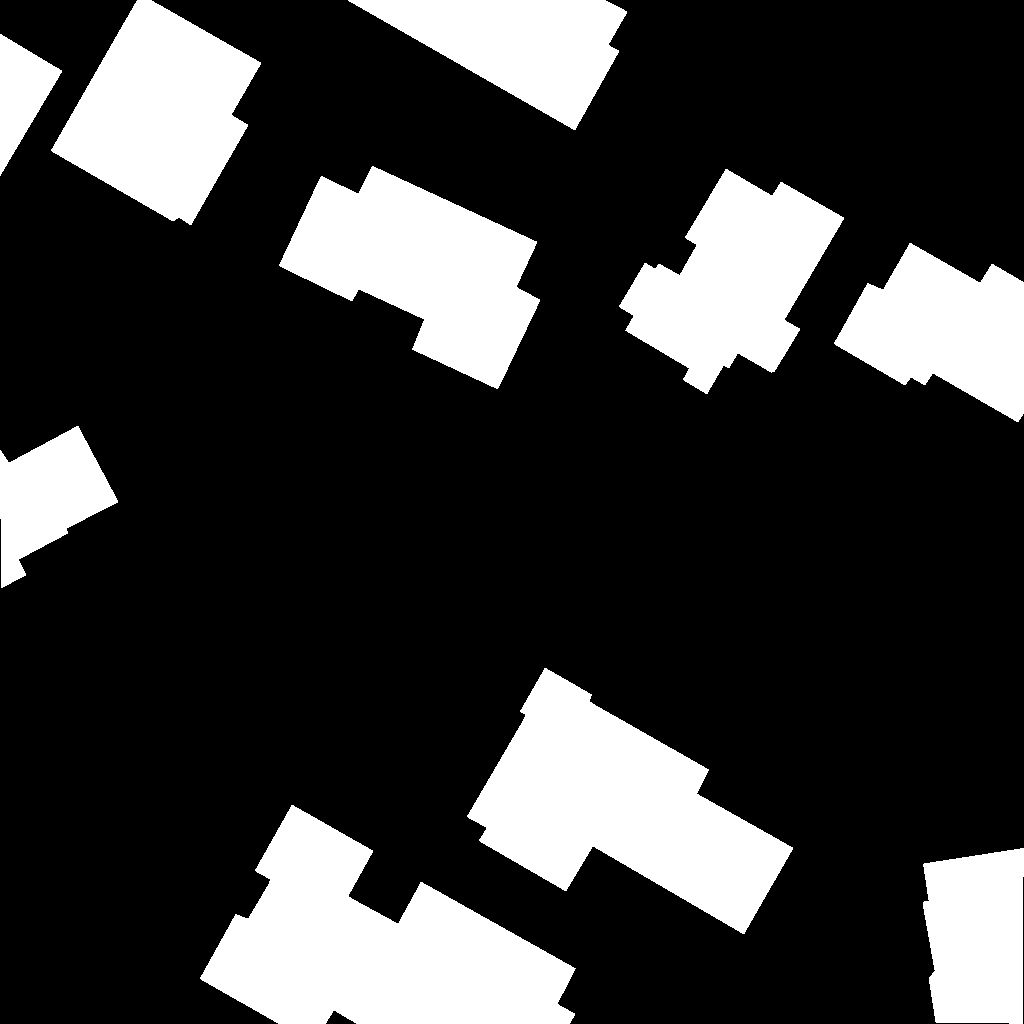building: (467, 668, 794, 935), (200, 805, 577, 1024), (279, 166, 541, 390), (619, 169, 845, 395), (51, 0, 262, 226), (347, 0, 628, 131), (834, 243, 1024, 423), (0, 426, 119, 589), (923, 848, 1024, 1024), (0, 34, 63, 177)
